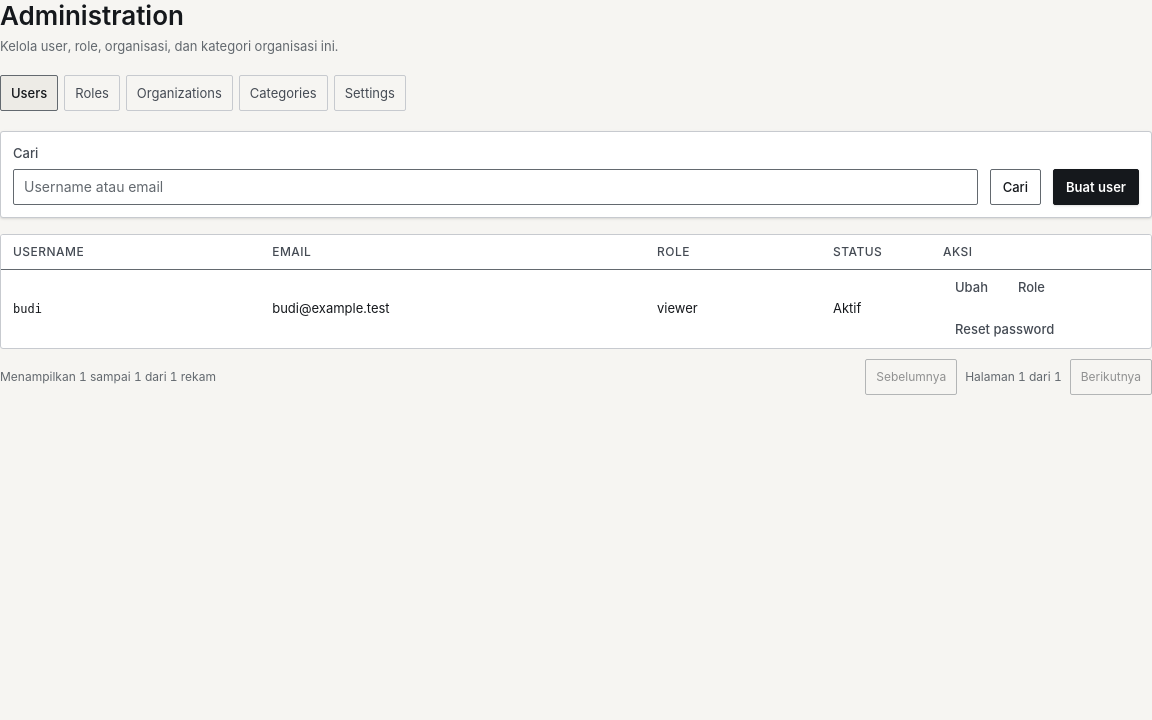
halaman Administration › membuat user lewat dialog dan memetakan galat 409
Expected: the text "budi" is shown, [13, 302, 42, 316]
Click the button "Buat user" at {"x": 1096, "y": 187}, box [1053, 169, 1139, 205]
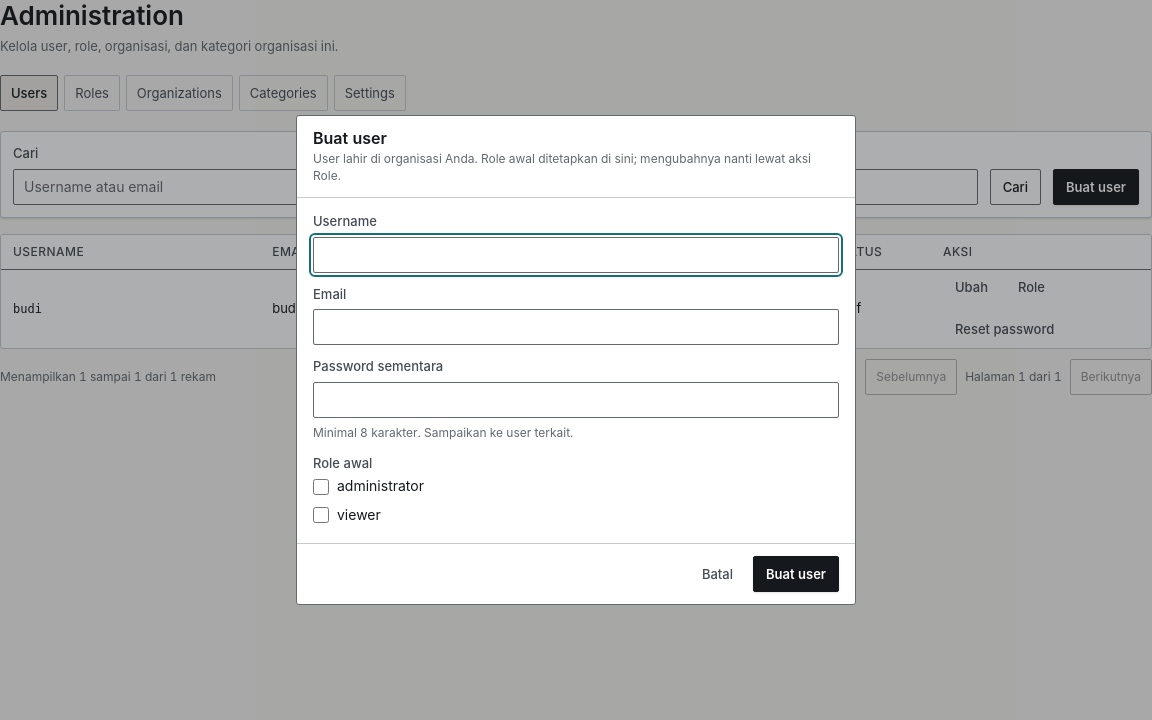
Type "budi" into the field labelled "Username" at {"x": 576, "y": 254}, box [313, 236, 839, 272]
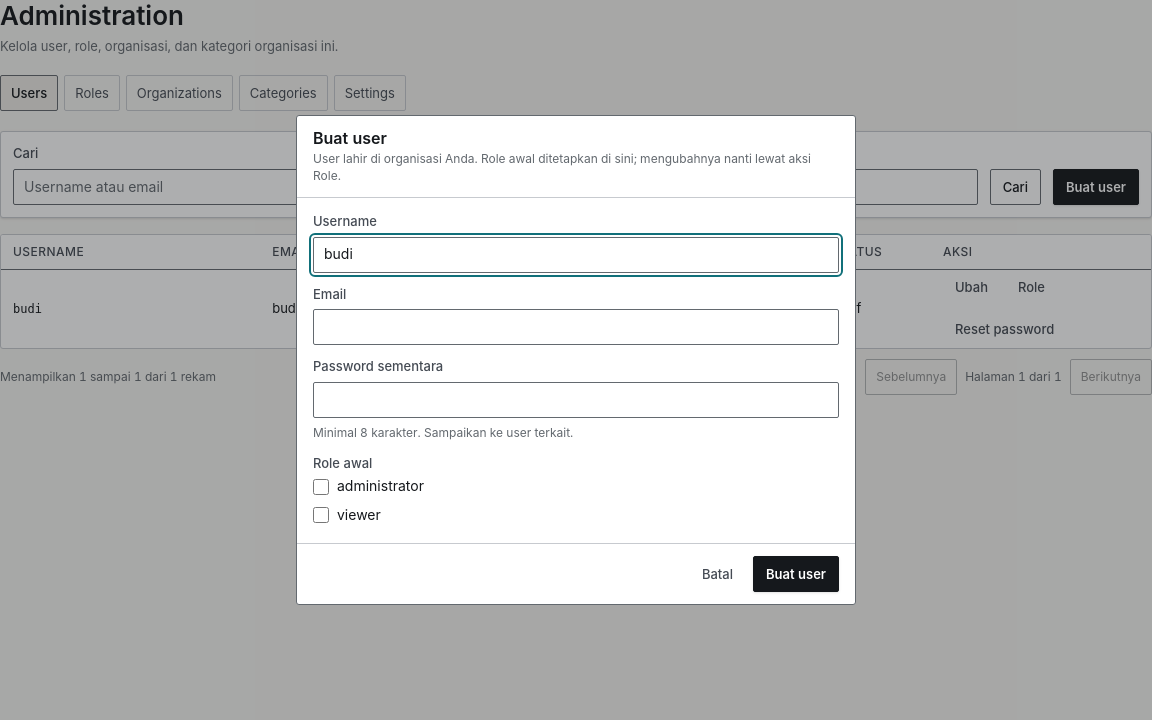
Type "budi@example.test" into the field labelled "Email" at {"x": 576, "y": 327}, box [313, 309, 839, 345]
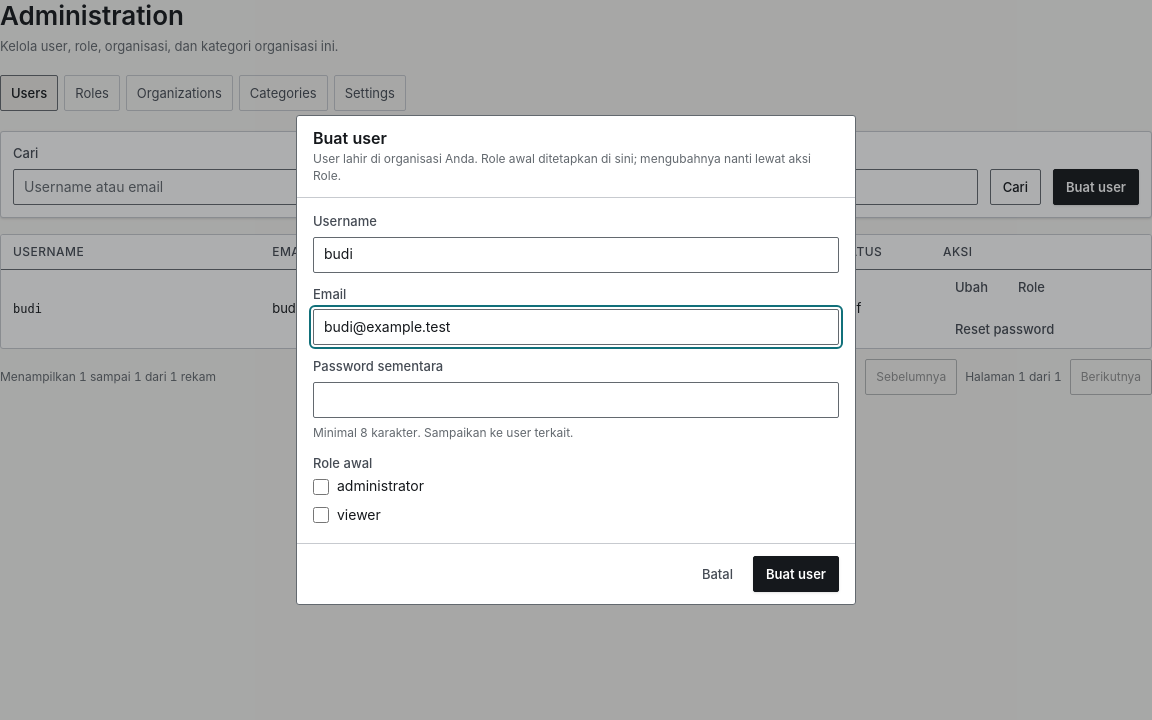
Type "TempKuat123" into the field labelled "Password sementara" at {"x": 576, "y": 400}, box [313, 382, 839, 418]
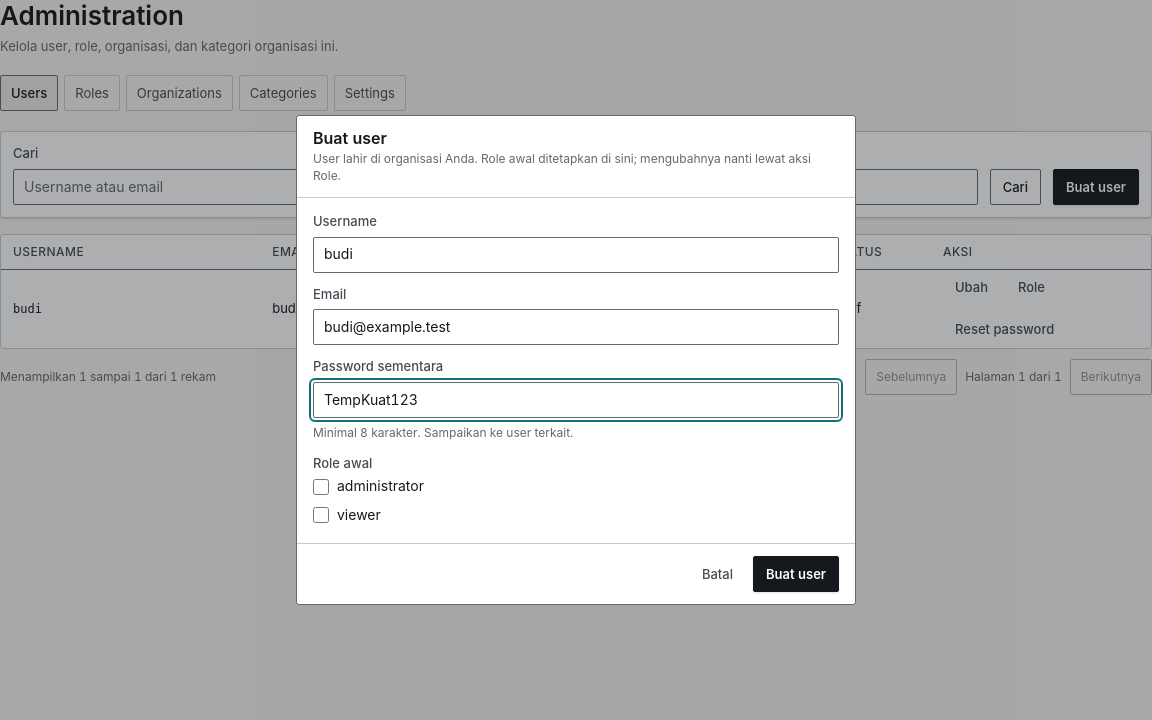
Click the checkbox labelled "viewer" at {"x": 321, "y": 515}, box [313, 507, 329, 523]
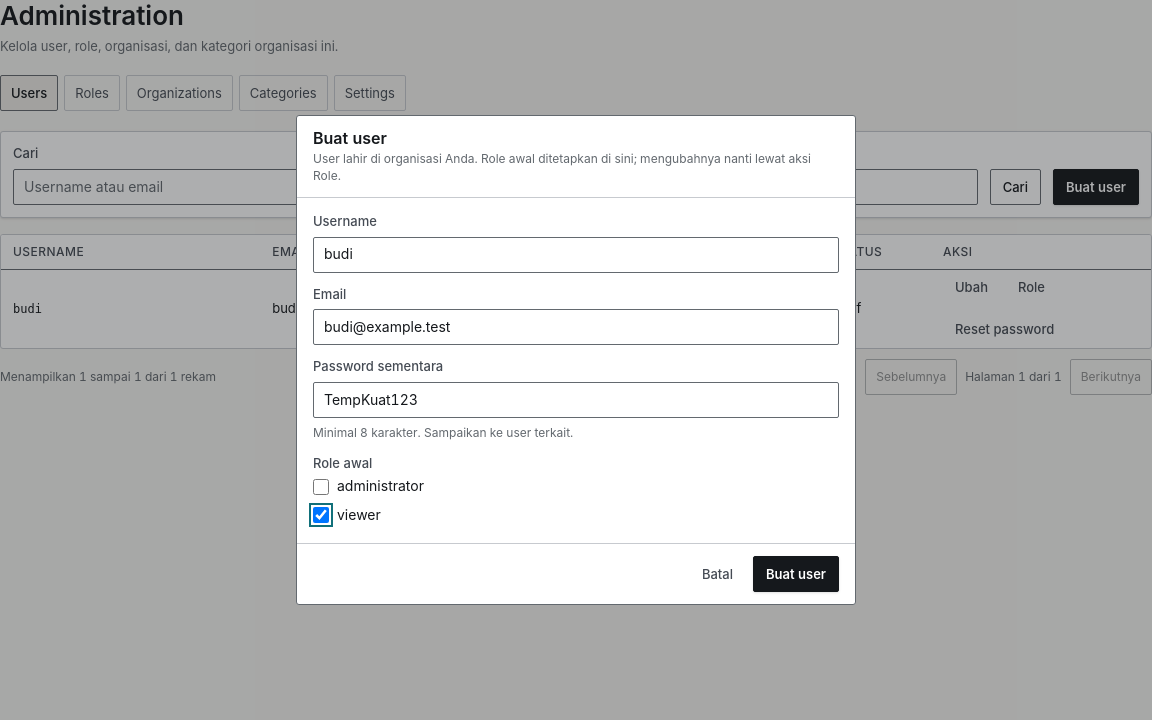
Click the button "Buat user" at {"x": 796, "y": 574}, box [753, 556, 839, 592]
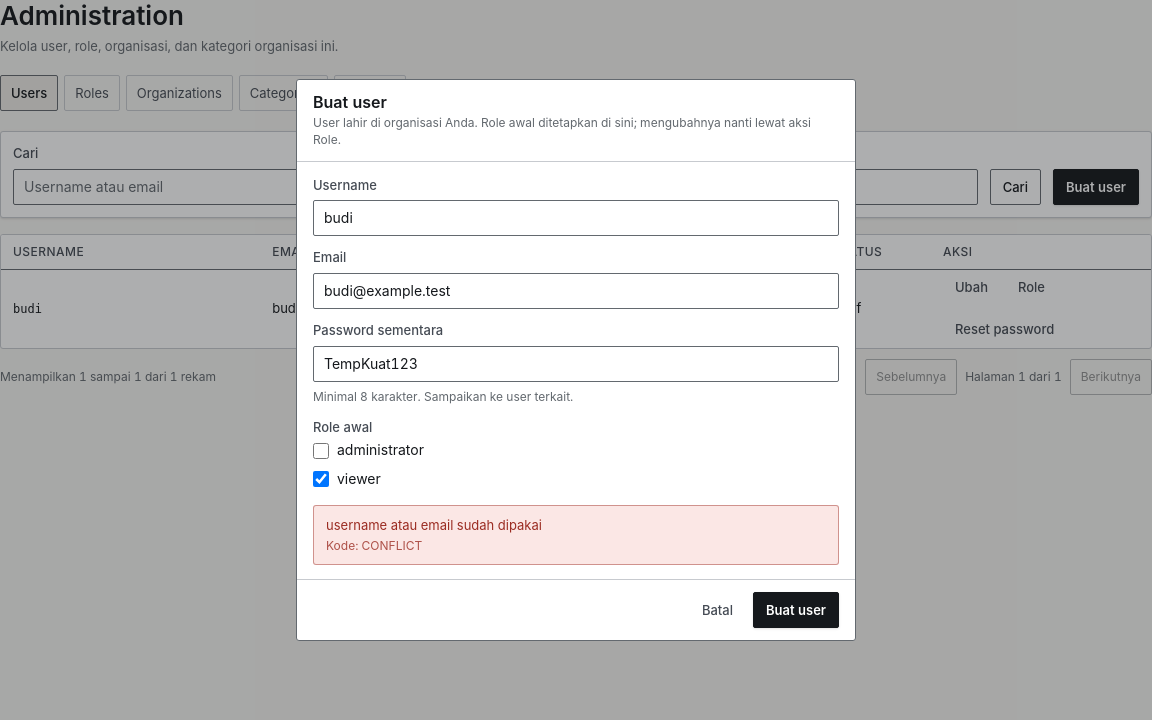
Expected: the text "username atau email sudah dipakai" is shown, [326, 517, 542, 533]
